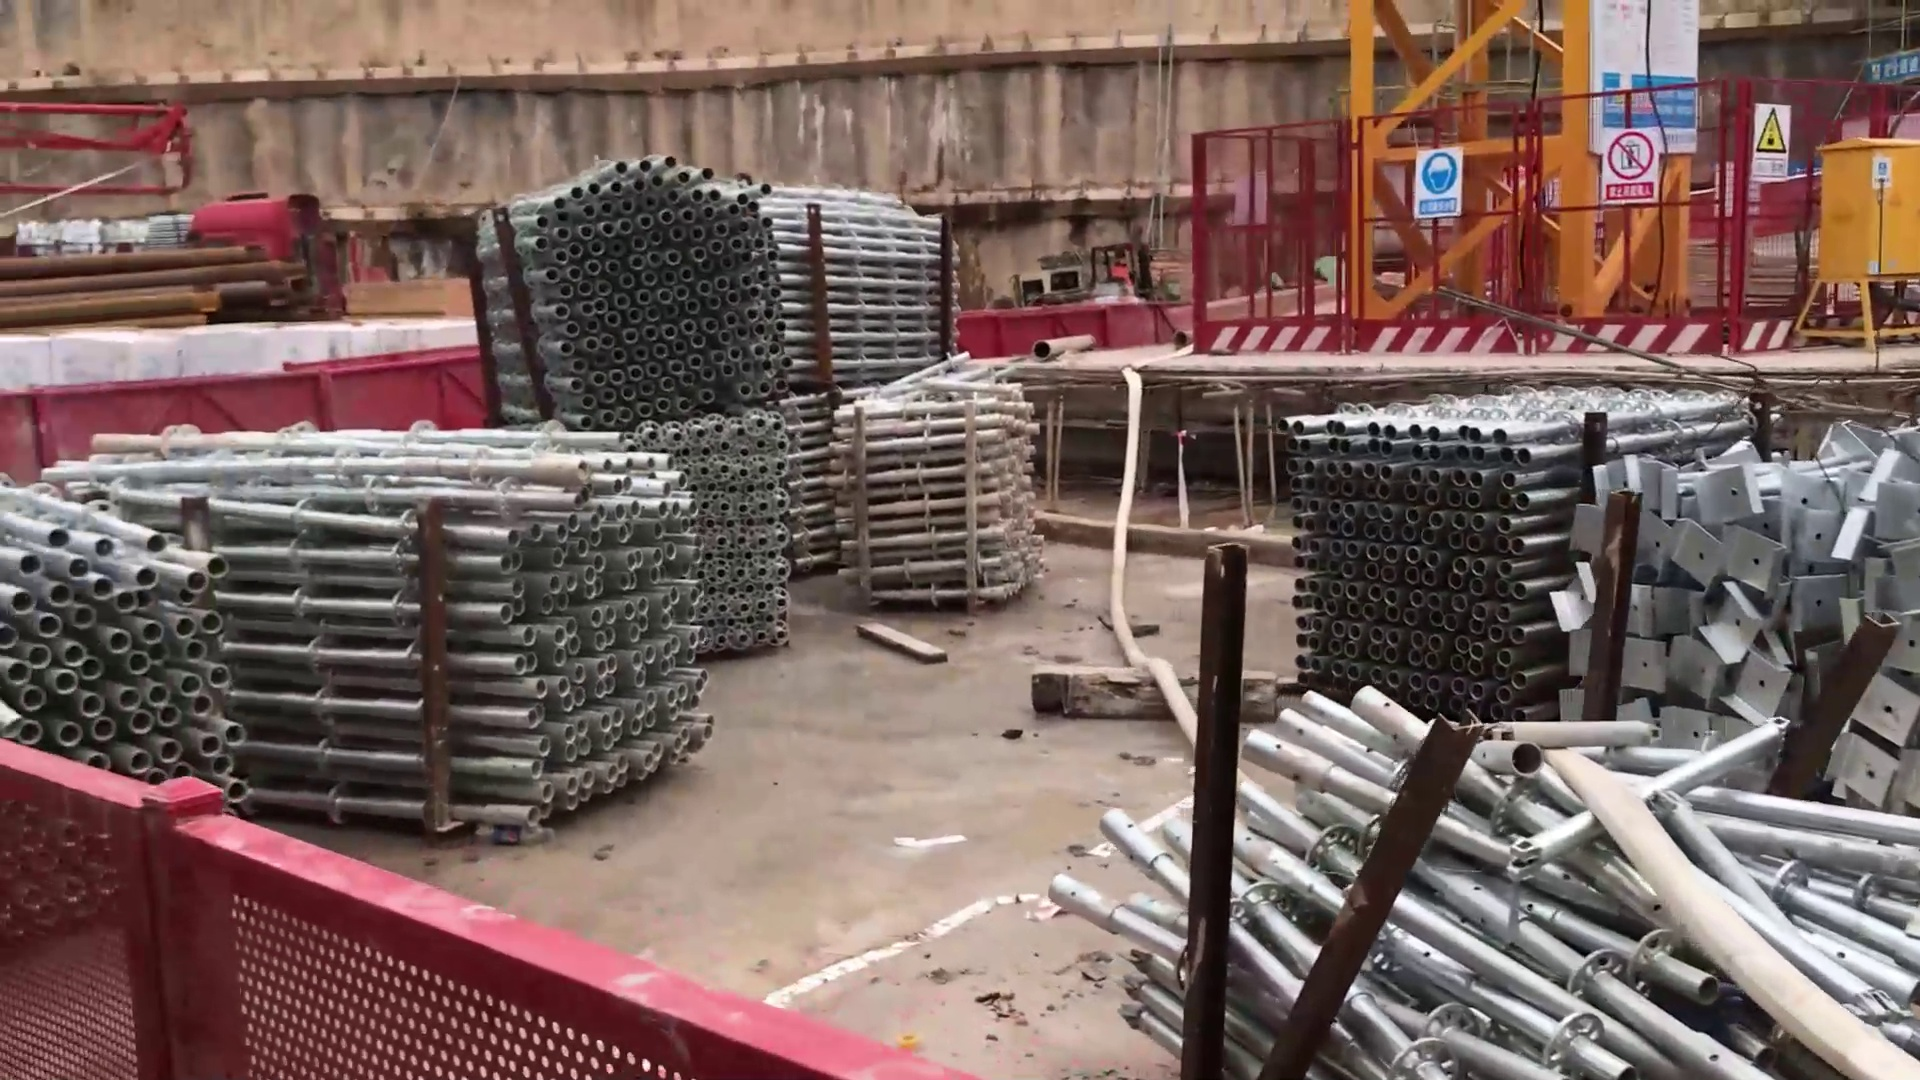ebox: (1791, 135, 1920, 355)
fence: (12, 740, 531, 1080), (1193, 92, 1749, 363)
scaffold: (1058, 684, 1920, 1075), (1, 440, 742, 858), (1596, 419, 1920, 791), (487, 160, 975, 400), (1275, 371, 1563, 723), (828, 378, 1051, 582)
slogan: (1585, 1, 1700, 160), (1606, 116, 1664, 212), (1406, 148, 1478, 224), (1755, 94, 1801, 178), (1871, 42, 1920, 91)
wood: (338, 274, 471, 327)
